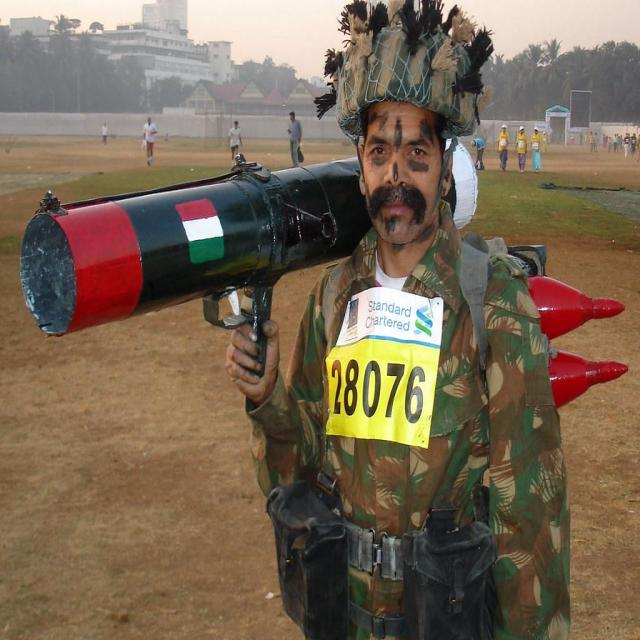bazooka: (2, 149, 377, 348)
